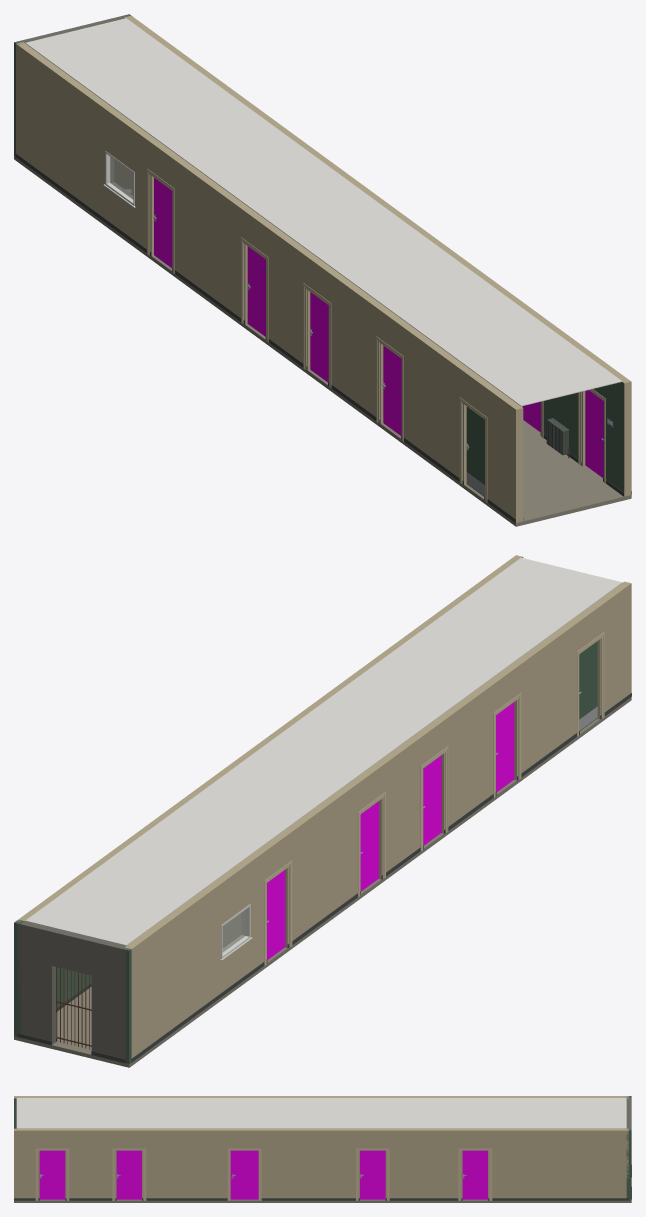
The model's file is ENV_HistoricCorridor_24m.glb.
3 views of the same model, one above another, from view 1: azimuth 30°, elevation 25°; view 2: azimuth 150°, elevation 25°; view 3: azimuth 270°, elevation 25° (orthographic). The views are drawn at different scales.
Parts seen in each view (by area): view 1: ENV_HistoricCorridor_24m_Architecture, ENV_HistoricCorridor_24m_Ceiling, DOOR_Service_Historic_1200_Leaf, DOOR_Service_Historic_1200_Leaf_COL-colonly.001, DOOR_Service_Historic_1200_Leaf_COL-colonly.004, DOOR_Service_Historic_1200_Leaf_COL-colonly.005, DOOR_Service_Historic_1200_Leaf_COL-colonly.003, DOOR_Service_Historic_1200_Leaf_COL-colonly.002, DOOR_Service_Historic_1200_Frame, DOOR_Service_Historic_1200_Frame.002, DOOR_Service_Historic_1200_Frame.001, DOOR_Service_Historic_1200_Frame.004; view 2: ENV_HistoricCorridor_24m_Architecture, ENV_HistoricCorridor_24m_Ceiling, ENV_HistoricCorridor_24m_Posts, DOOR_Service_Historic_1200_Leaf_COL-colonly.002, DOOR_Service_Historic_1200_Leaf, DOOR_Service_Historic_1200_Leaf_COL-colonly.004, DOOR_Service_Historic_1200_Leaf_COL-colonly.003, DOOR_Service_Historic_1200_Leaf_COL-colonly.001, LiftLanding_Gate, DOOR_Service_Historic_1200_Frame.002, DOOR_Service_Historic_1200_Frame.001, DOOR_Service_Historic_1200_Frame.004 (+1 smaller); view 3: ENV_HistoricCorridor_24m_Architecture, ENV_HistoricCorridor_24m_Ceiling, DOOR_Service_Historic_1200_Leaf_COL-colonly.007, DOOR_Service_Historic_1200_Leaf_COL-colonly.005, DOOR_Service_Historic_1200_Leaf_COL-colonly.008, DOOR_Service_Historic_1200_Leaf_COL-colonly.006, DOOR_Service_Historic_1200_Leaf_COL-colonly.009, DOOR_Service_Historic_1200_Frame.005, DOOR_Service_Historic_1200_Frame.006, DOOR_Service_Historic_1200_Frame.009, DOOR_Service_Historic_1200_Frame.007, DOOR_Service_Historic_1200_Frame.008 (+1 smaller).
Boxes of the visible parts, x1,y1,x2,y2 form: ENV_HistoricCorridor_24m_Architecture: (14, 15, 631, 526); ENV_HistoricCorridor_24m_Ceiling: (25, 18, 622, 406); DOOR_Service_Historic_1200_Leaf: (465, 407, 484, 496); DOOR_Service_Historic_1200_Leaf_COL-colonly.001: (383, 345, 401, 435); DOOR_Service_Historic_1200_Leaf_COL-colonly.004: (154, 178, 172, 267); DOOR_Service_Historic_1200_Leaf_COL-colonly.005: (585, 390, 603, 477); DOOR_Service_Historic_1200_Leaf_COL-colonly.003: (247, 246, 265, 336); DOOR_Service_Historic_1200_Leaf_COL-colonly.002: (310, 292, 328, 382); DOOR_Service_Historic_1200_Frame: (459, 397, 487, 502); DOOR_Service_Historic_1200_Frame.002: (303, 283, 331, 388); DOOR_Service_Historic_1200_Frame.001: (376, 336, 403, 441); DOOR_Service_Historic_1200_Frame.004: (147, 168, 174, 273); ENV_HistoricCorridor_24m_Architecture: (14, 555, 631, 1067); ENV_HistoricCorridor_24m_Ceiling: (25, 557, 622, 945); ENV_HistoricCorridor_24m_Posts: (14, 920, 131, 1063); DOOR_Service_Historic_1200_Leaf_COL-colonly.002: (423, 755, 441, 845); DOOR_Service_Historic_1200_Leaf: (579, 641, 597, 730); DOOR_Service_Historic_1200_Leaf_COL-colonly.004: (267, 870, 285, 959); DOOR_Service_Historic_1200_Leaf_COL-colonly.003: (360, 801, 378, 891); DOOR_Service_Historic_1200_Leaf_COL-colonly.001: (496, 702, 514, 791); LiftLanding_Gate: (56, 967, 91, 1049); DOOR_Service_Historic_1200_Frame.002: (420, 746, 448, 851); DOOR_Service_Historic_1200_Frame.001: (493, 693, 521, 797); DOOR_Service_Historic_1200_Frame.004: (264, 861, 292, 965); ENV_HistoricCorridor_24m_Architecture: (14, 1096, 631, 1202); ENV_HistoricCorridor_24m_Ceiling: (16, 1098, 626, 1128); DOOR_Service_Historic_1200_Leaf_COL-colonly.007: (230, 1150, 258, 1199); DOOR_Service_Historic_1200_Leaf_COL-colonly.005: (39, 1150, 65, 1199); DOOR_Service_Historic_1200_Leaf_COL-colonly.008: (360, 1150, 385, 1199); DOOR_Service_Historic_1200_Leaf_COL-colonly.006: (116, 1150, 141, 1199); DOOR_Service_Historic_1200_Leaf_COL-colonly.009: (462, 1150, 487, 1199); DOOR_Service_Historic_1200_Frame.005: (35, 1148, 69, 1200); DOOR_Service_Historic_1200_Frame.006: (112, 1148, 146, 1200); DOOR_Service_Historic_1200_Frame.009: (458, 1148, 492, 1200); DOOR_Service_Historic_1200_Frame.007: (227, 1148, 261, 1200); DOOR_Service_Historic_1200_Frame.008: (356, 1148, 389, 1200).
Size of what is drawn, in the model's own units: 3.27 by 3.12 by 24.11.
